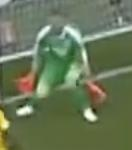goalkeeper: (11, 3, 114, 128)
